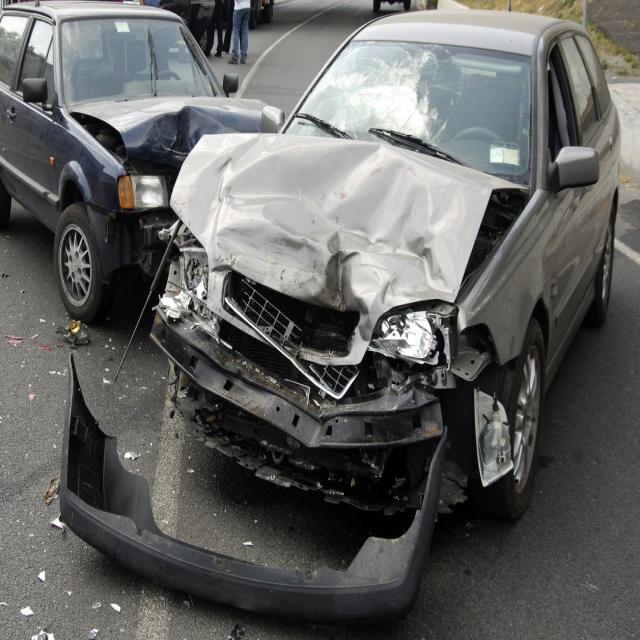accident: (60, 13, 620, 621), (0, 2, 280, 324)
